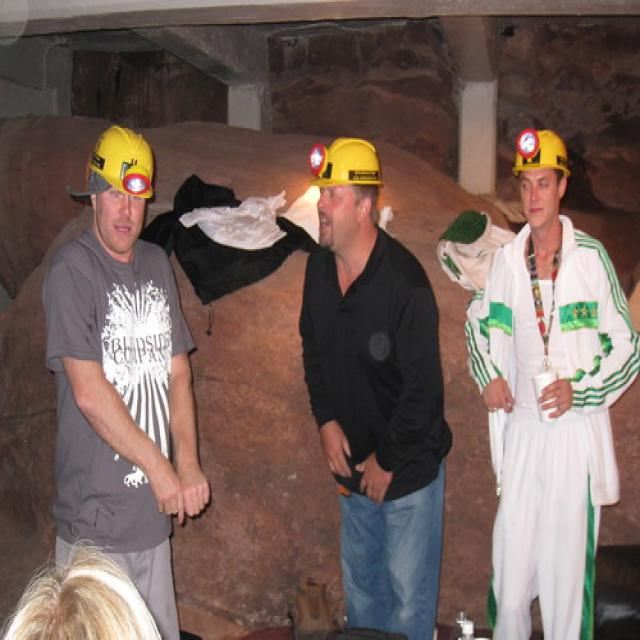Safety-Helmet: (83, 118, 161, 206), (304, 128, 391, 201), (508, 119, 577, 186)
